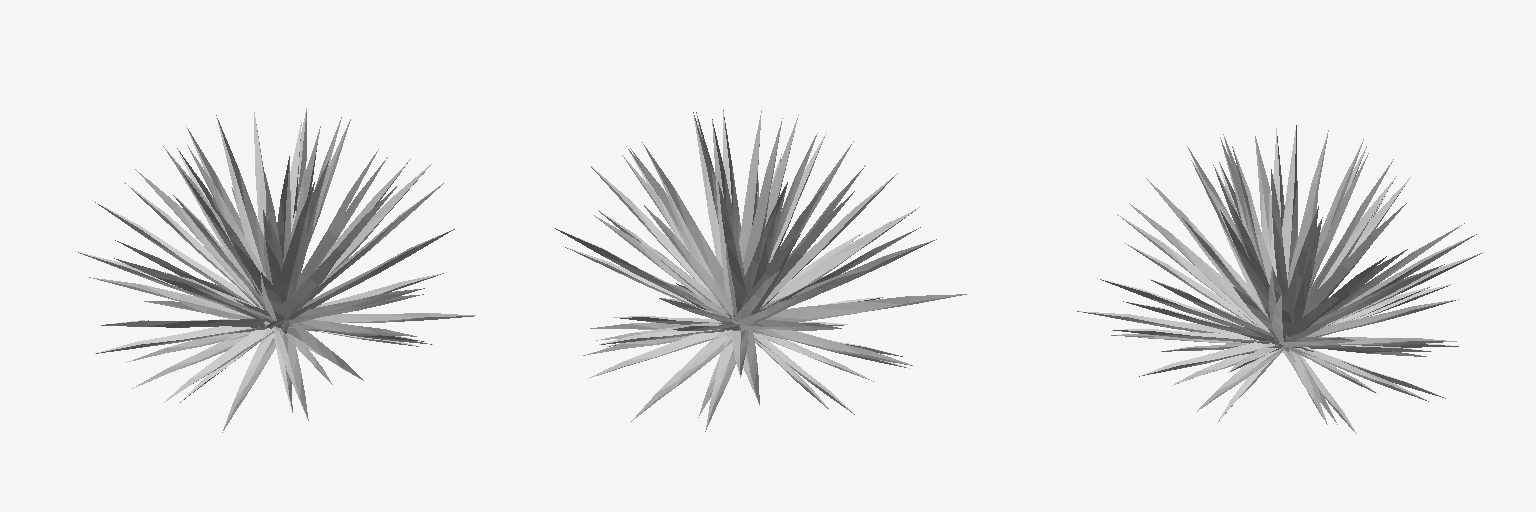
The model's file is housesp_072.obj.
3 views of the same model, side by side, from view 1: azimuth 30°, elevation 25°; view 2: azimuth 150°, elevation 25°; view 3: azimuth 270°, elevation 25° (orthographic).
Bounding box in the file's own units: 69.2 × 44.37 × 68.29.